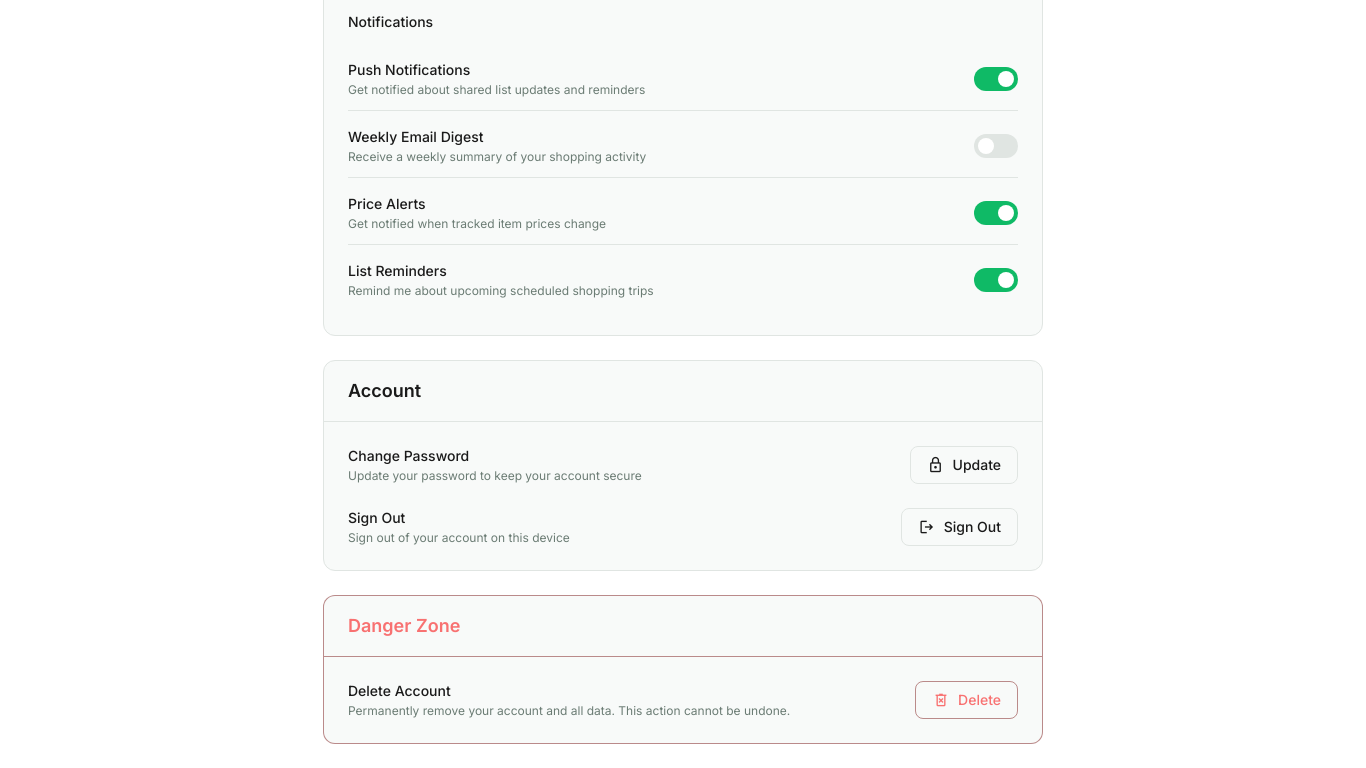
Test case: SettingsPage › opens Change Password modal on click
(page scrolled)
Click the button "Update". click: coordinates (964, 465)
box: x1=910 y1=446 x2=1018 y2=484
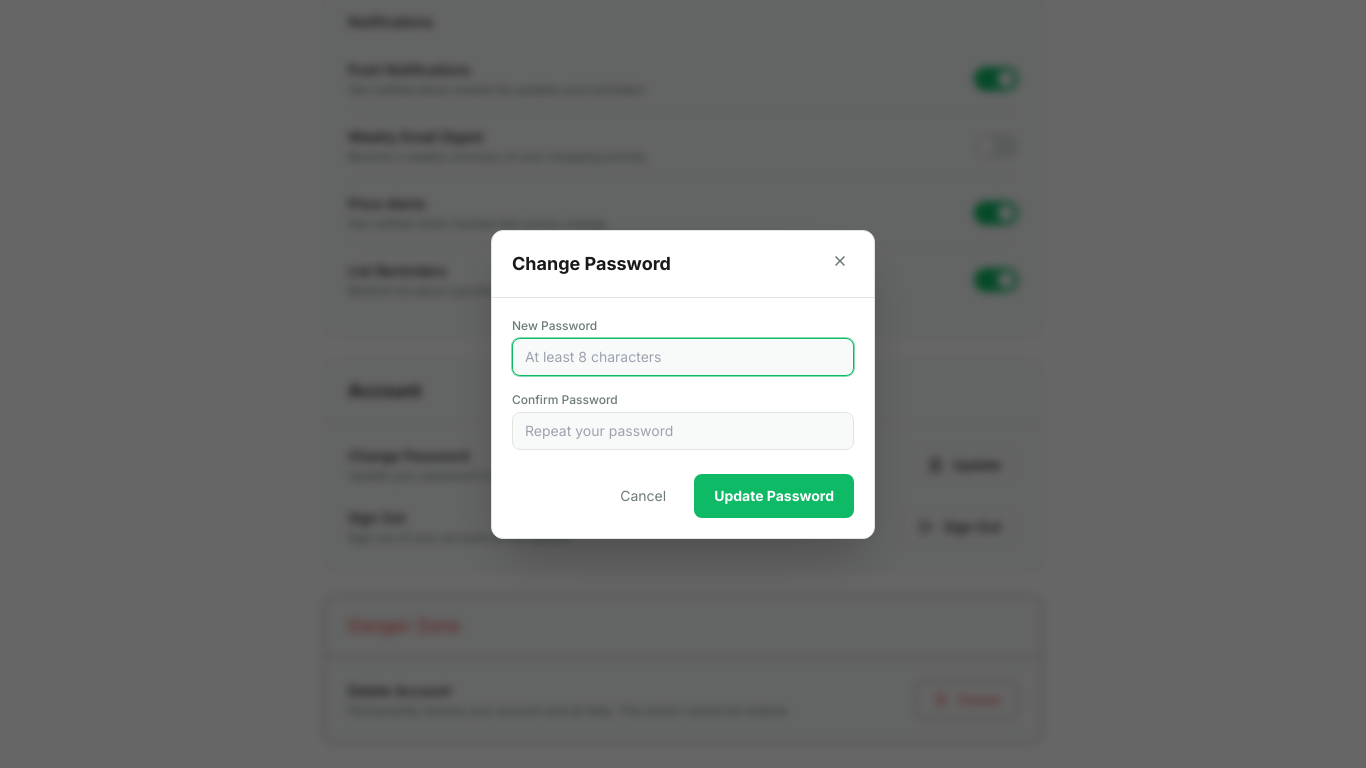
Now the password field with placeholder "At least 8 characters" is shown, box x1=512 y1=338 x2=854 y2=376
Now the password field with placeholder "Repeat your password" is shown, box x1=512 y1=412 x2=854 y2=450
